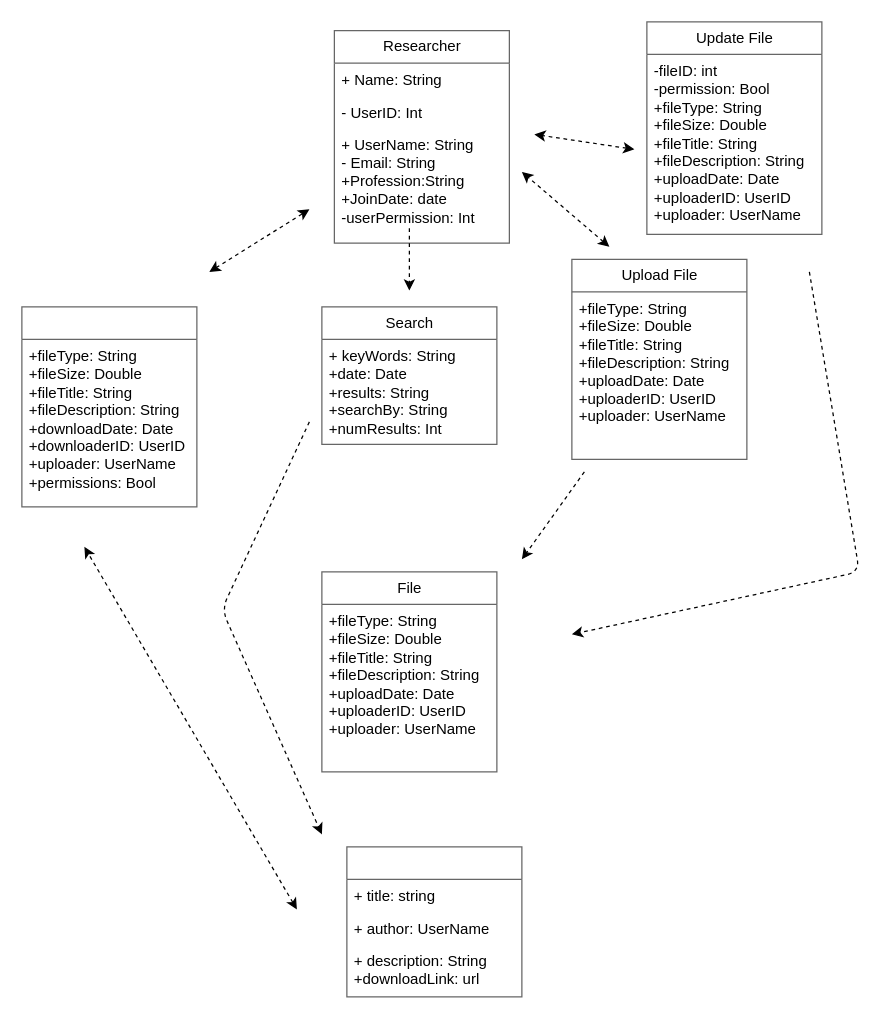
This 891x1019 diagram has some shape labels left out. The box of each missing label's shape, as (x1, y1, x2, y2) in pixels:
Display Resuts: (346, 846, 522, 997)
Download File: (21, 306, 197, 507)
